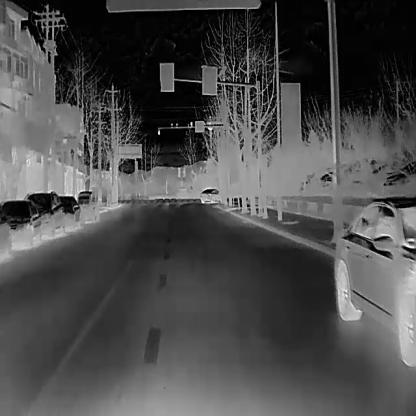car: (332, 196, 416, 367), (0, 197, 40, 250), (24, 191, 62, 237), (56, 193, 79, 232), (76, 190, 98, 224), (198, 186, 219, 205)
